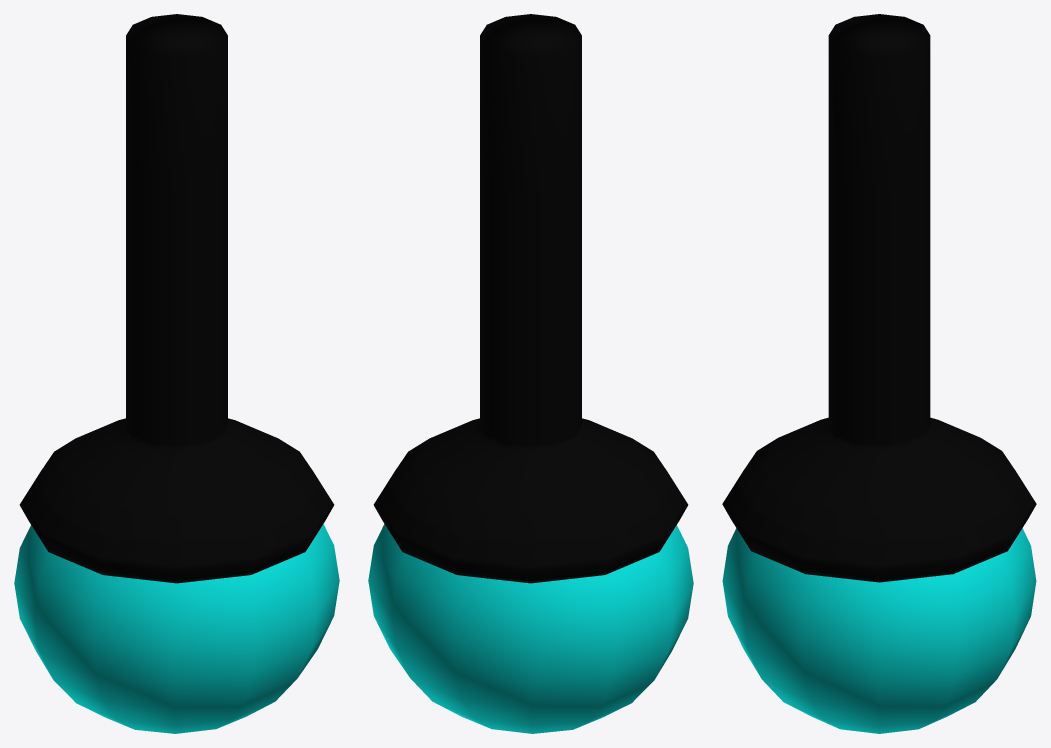
Rendered from lampara_techo.fbx.
3 views of the same model, side by side, from view 1: azimuth 30°, elevation 25°; view 2: azimuth 150°, elevation 25°; view 3: azimuth 270°, elevation 25° (orthographic).
Visible parts, largest first — view 1: pCylinder5; view 2: pCylinder5; view 3: pCylinder5.
Part boxes in pixels (x1=…): pCylinder5: x1=14, y1=14, x2=339, y2=733; pCylinder5: x1=368, y1=14, x2=693, y2=733; pCylinder5: x1=722, y1=14, x2=1036, y2=733.
Size of the model in its own units: 27.58 by 63.18 by 26.4.
